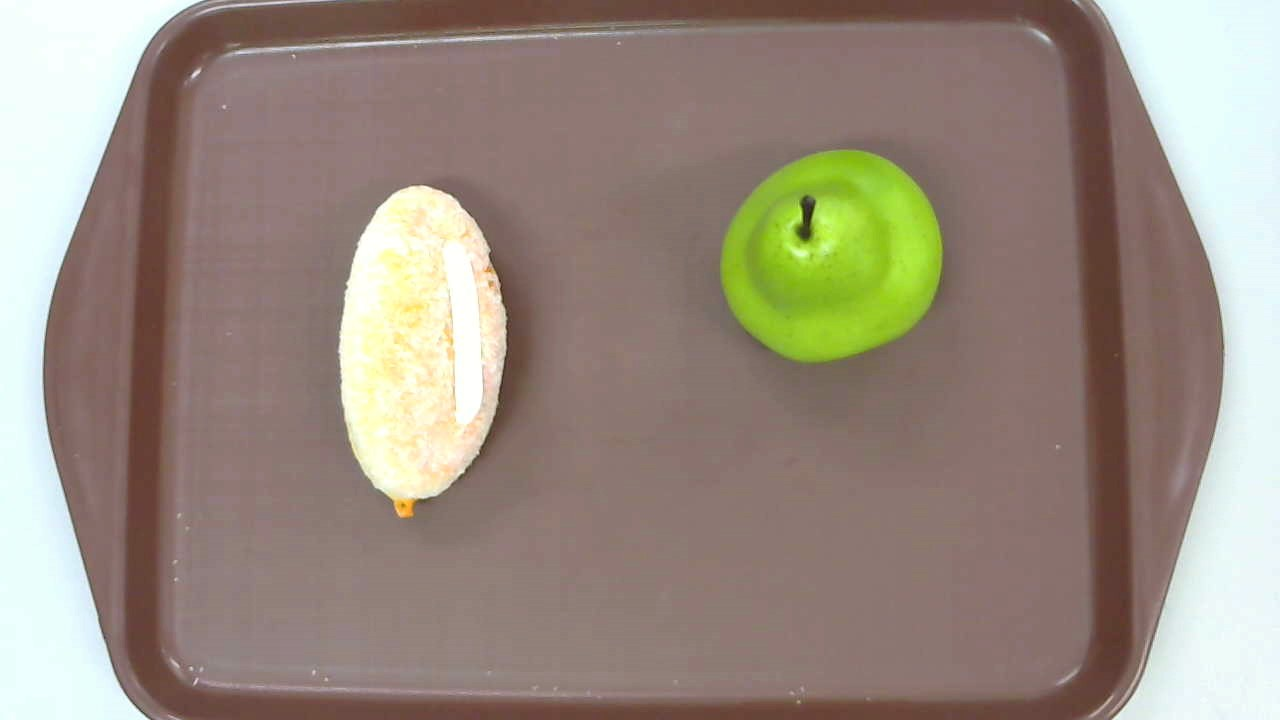coconut: (337, 185, 508, 520)
green pear: (717, 150, 942, 365)
